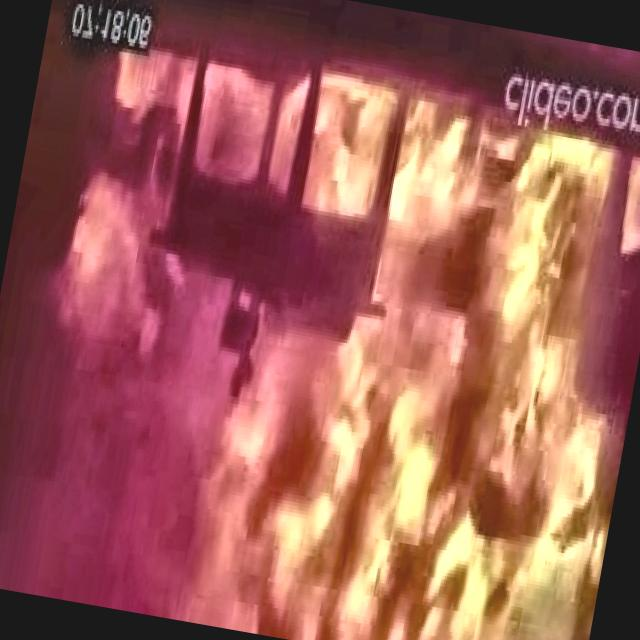fire: (1, 74, 640, 640)
